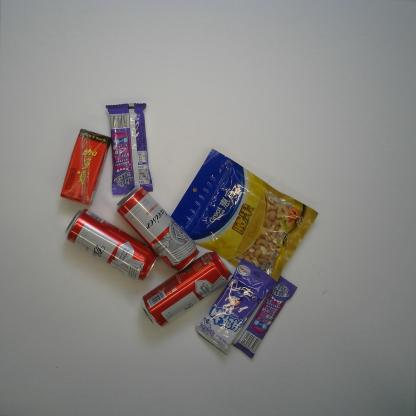Alcohol: (115, 185, 200, 272), (140, 250, 232, 328), (64, 209, 159, 282)
Candy: (195, 258, 277, 356), (226, 270, 298, 359), (104, 102, 154, 196)
Dried Fruit: (170, 148, 318, 286)
Drink: (60, 128, 111, 206)
